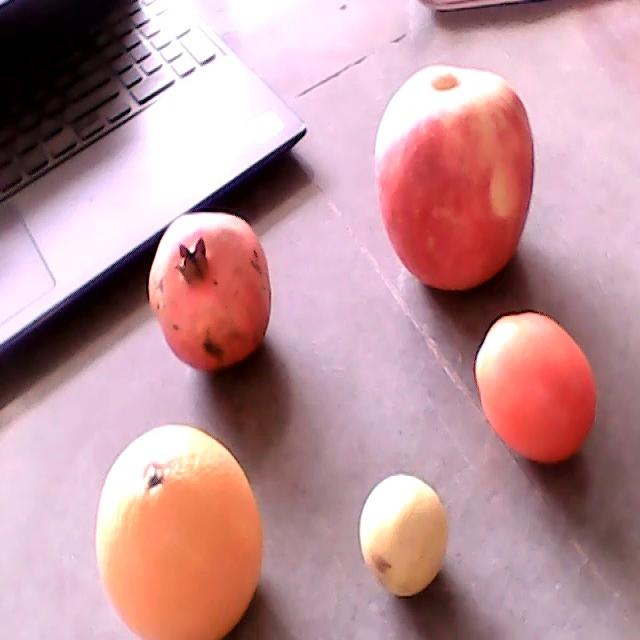apple: (375, 63, 535, 293)
lemon: (360, 476, 446, 596)
orange: (95, 424, 262, 639)
pomegranate: (149, 214, 272, 370)
tomato: (475, 309, 596, 465)
